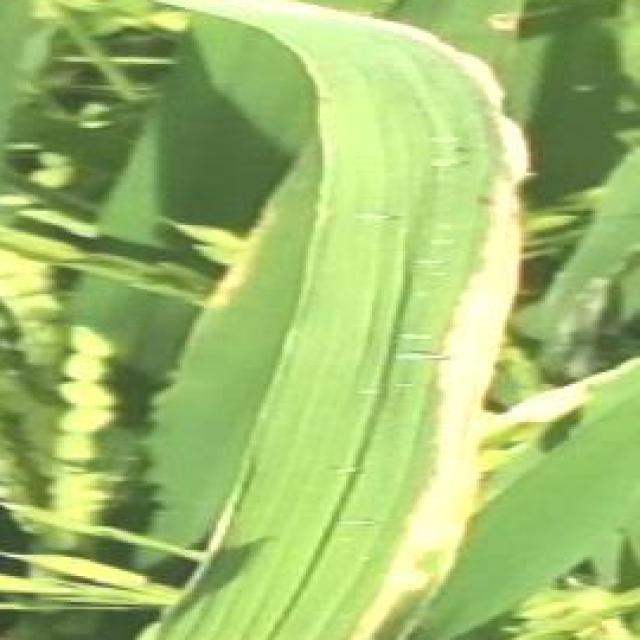Bacterial_Leaf_Blight: (296, 33, 530, 545)
